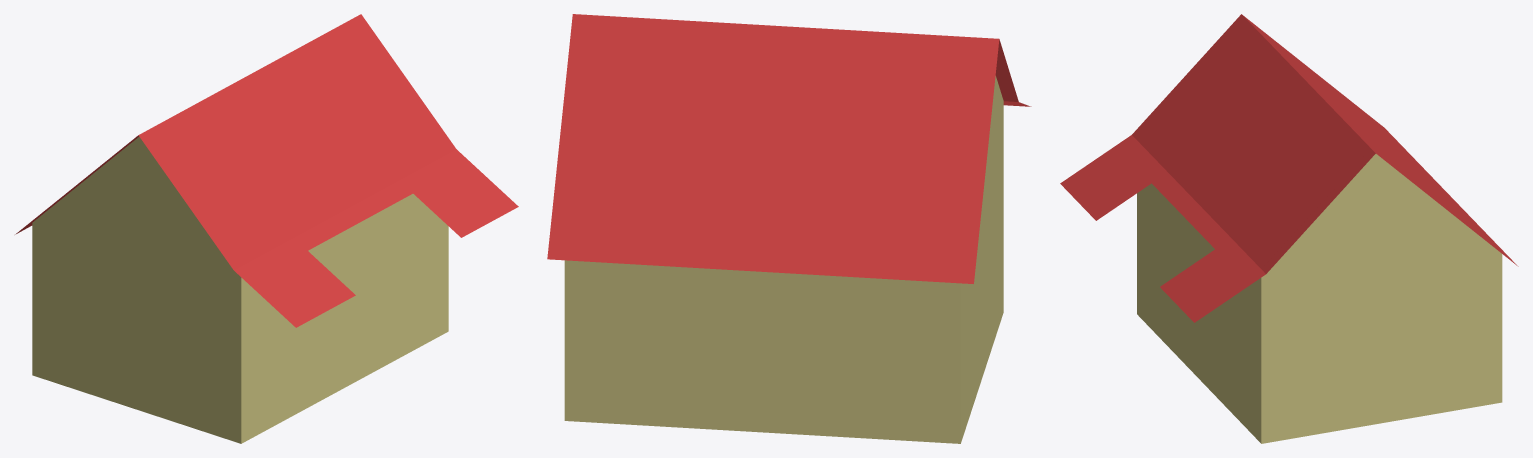
3 renders of one model, left to right at view 1: azimuth 30°, elevation 25°; view 2: azimuth 150°, elevation 25°; view 3: azimuth 270°, elevation 25°, orthographic. The views are drawn at different scales.
Bounding box in the file's own units: 18.18 × 18.05 × 12.01.
